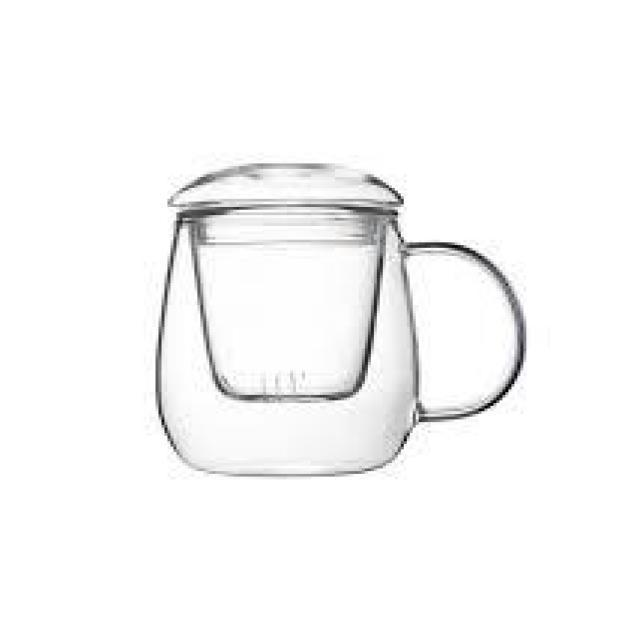glass: (156, 163, 530, 480)
